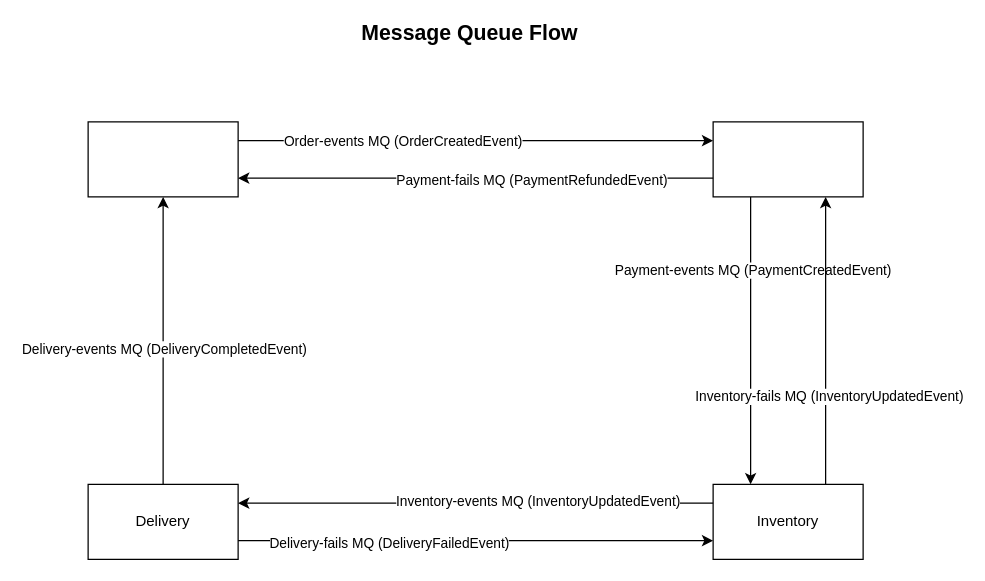
Image size: 985x581. Some labels were removed from this diagram. The centre of each missing label's shape, as x and y in pixels:
Order: the point at 162,159
Payment: the point at 787,159
